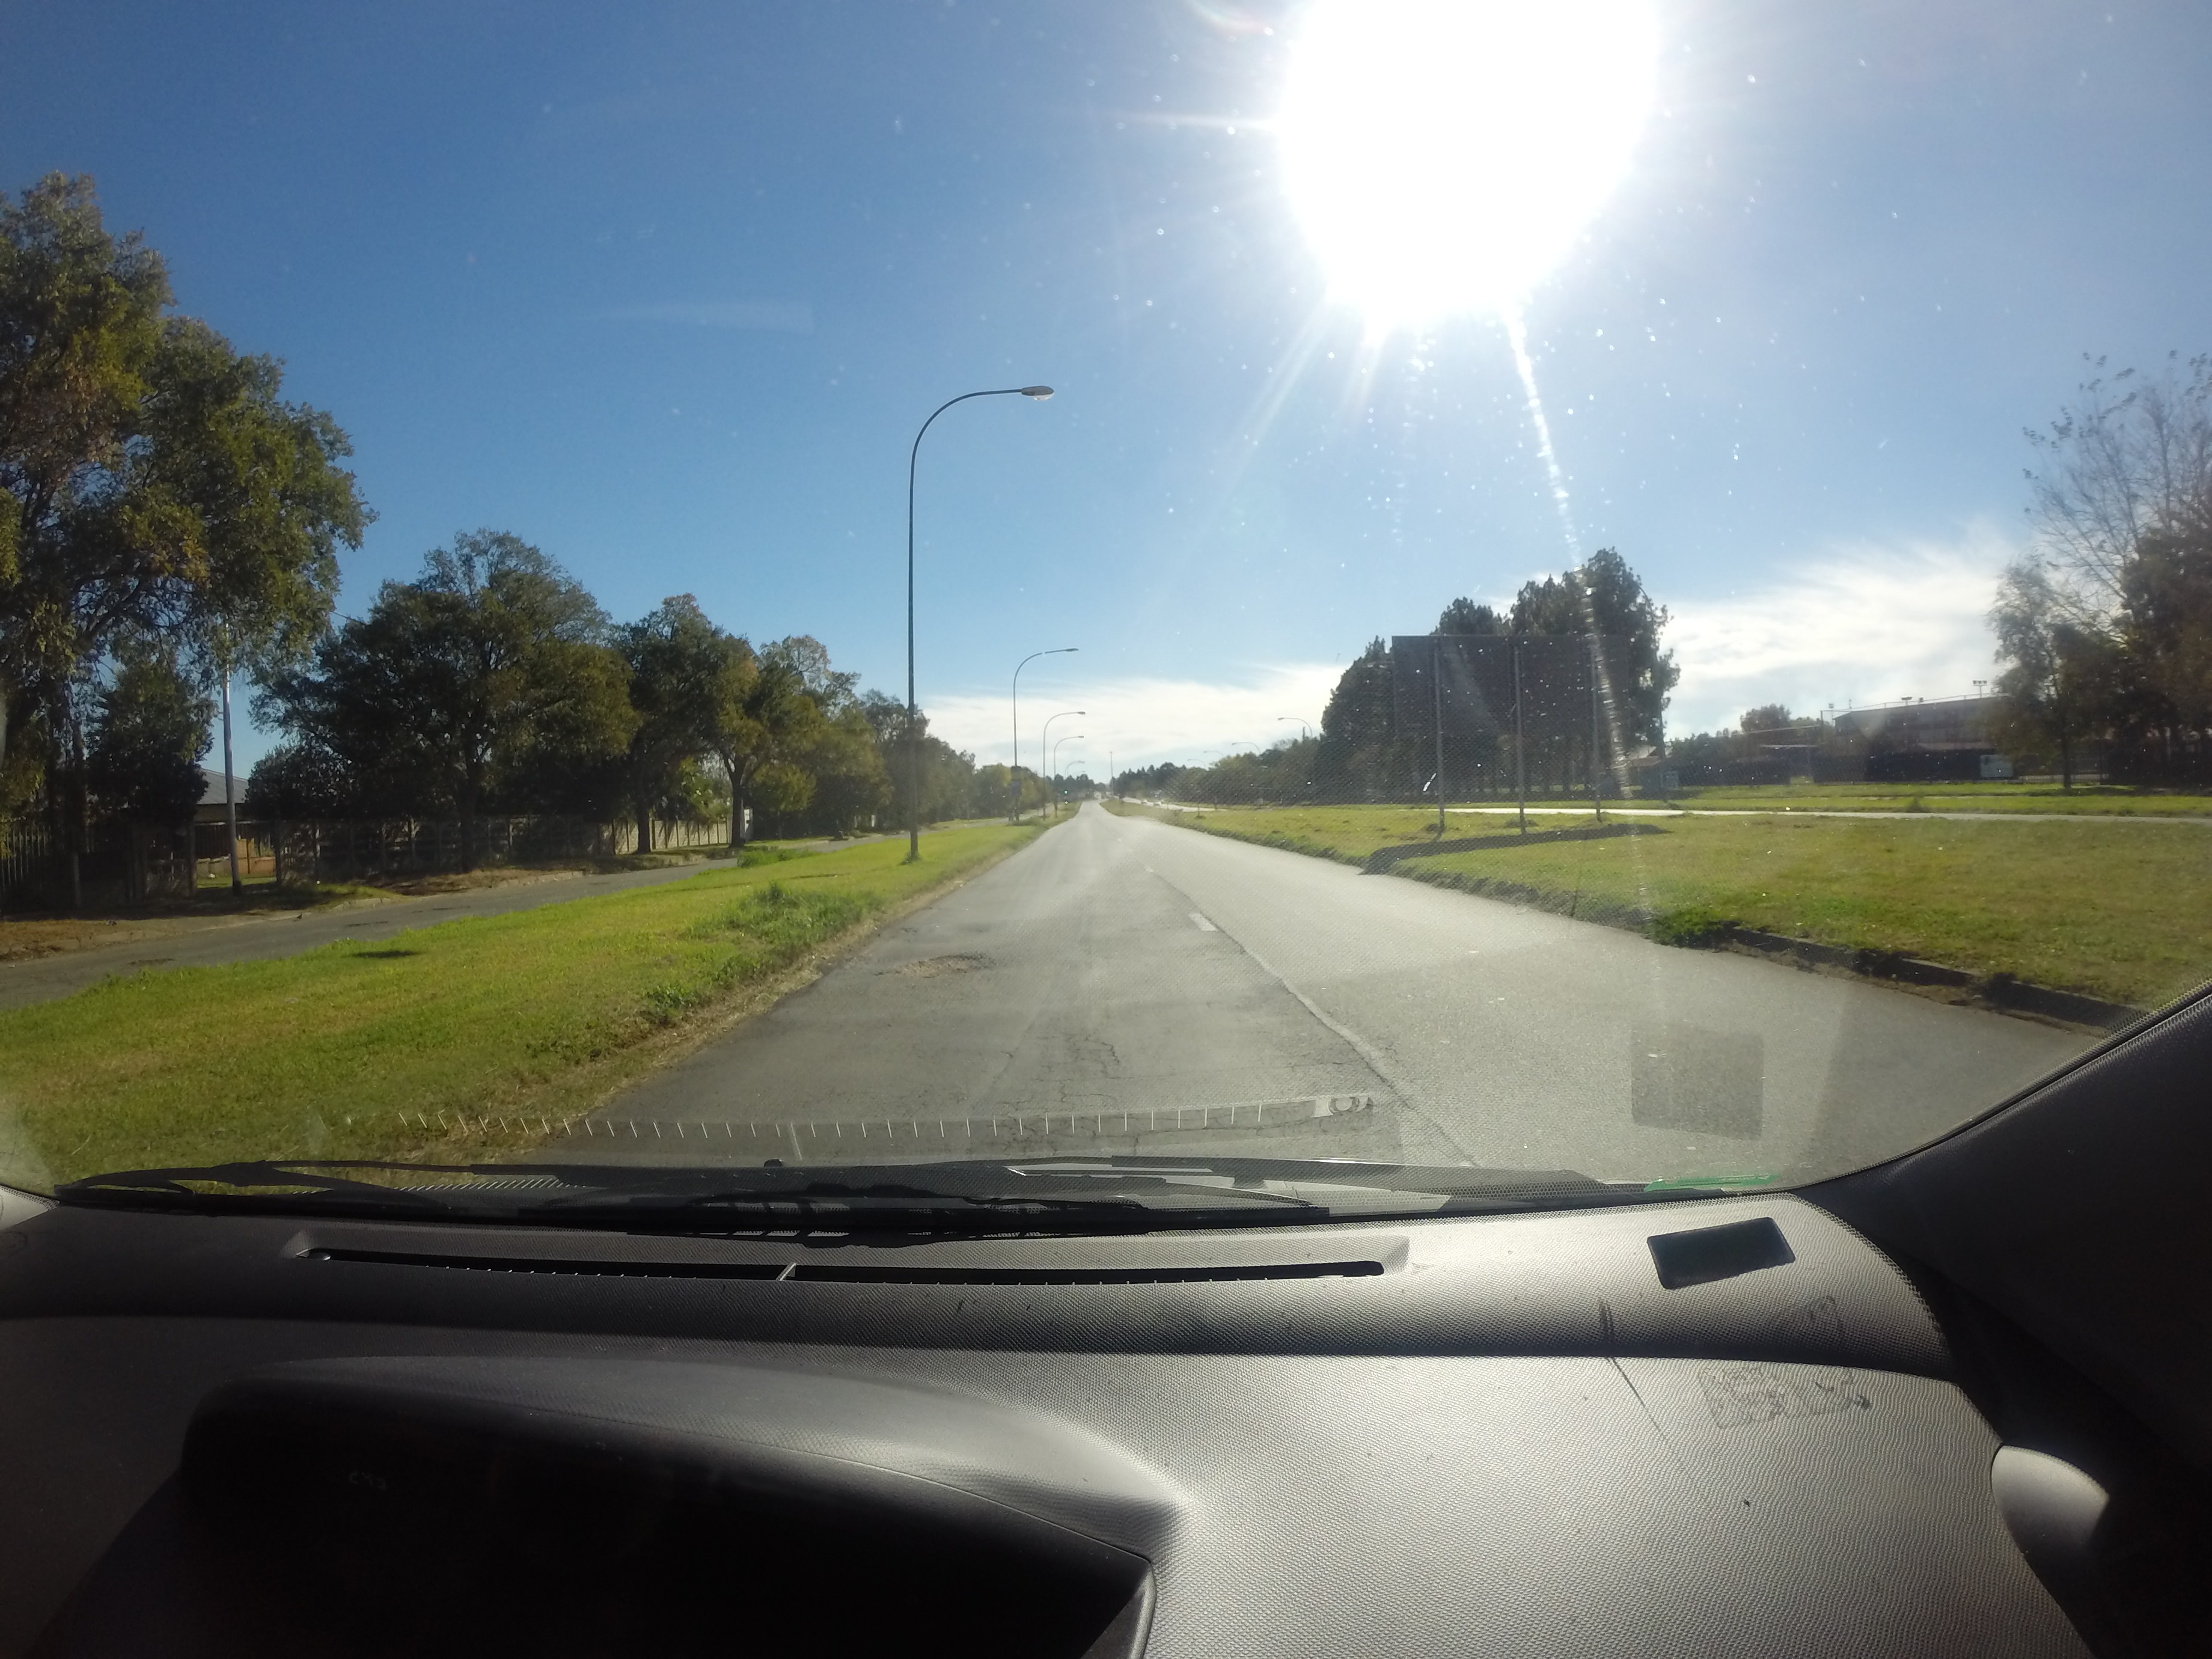pothole: (892, 938, 1019, 997)
